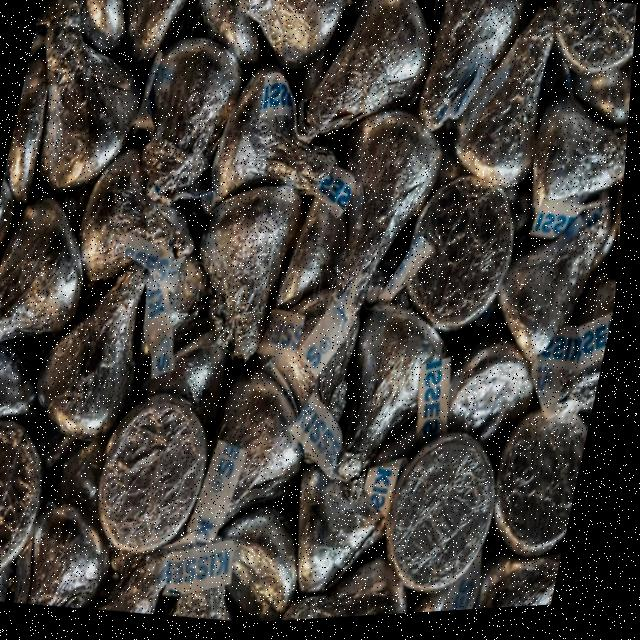kisses: (192, 55, 361, 240), (316, 102, 456, 312), (325, 301, 462, 504), (32, 254, 172, 451), (177, 178, 312, 382), (90, 382, 233, 570), (292, 0, 449, 168), (65, 141, 223, 306), (125, 28, 257, 225), (390, 169, 531, 351), (449, 2, 576, 204), (18, 22, 157, 204), (491, 197, 627, 379), (384, 431, 516, 607), (283, 447, 417, 614), (512, 102, 632, 272), (0, 190, 113, 368), (490, 402, 601, 575), (435, 340, 547, 463), (220, 507, 325, 628), (0, 407, 65, 588), (210, 0, 354, 79), (96, 0, 203, 69)
